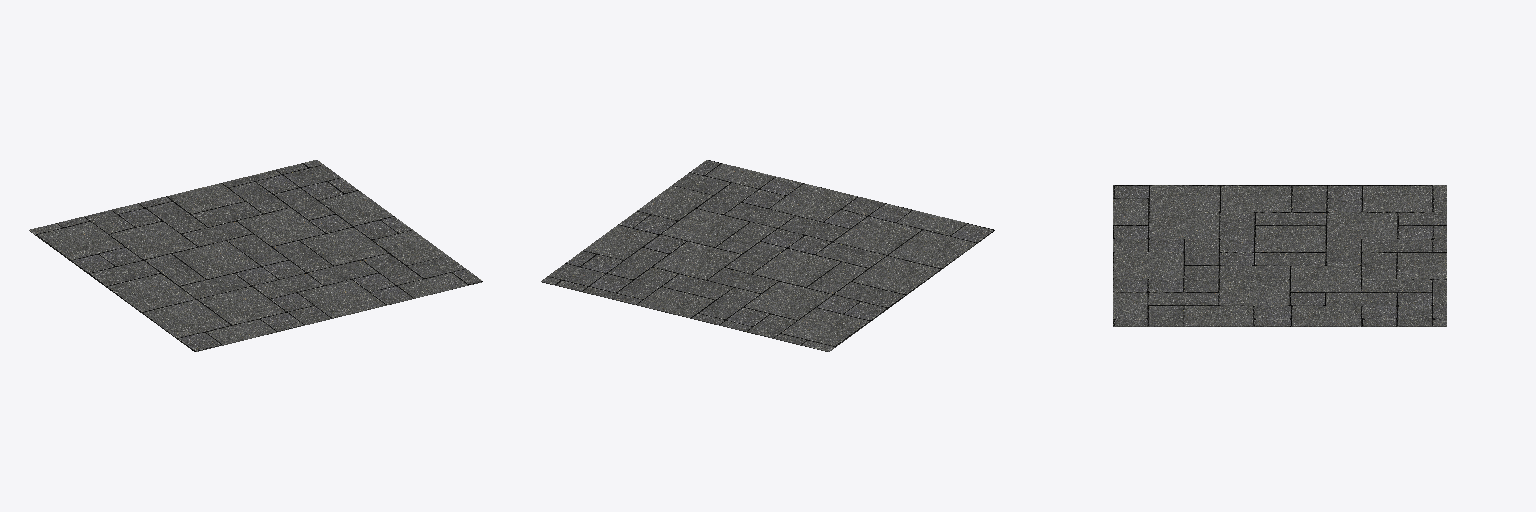
3 views of the same model, side by side, from view 1: azimuth 30°, elevation 25°; view 2: azimuth 150°, elevation 25°; view 3: azimuth 270°, elevation 25° (orthographic).
Visible parts, largest first — view 1: Cube_Cube_Material; view 2: Cube_Cube_Material; view 3: Cube_Cube_Material.
Boxes of the visible parts, box(x1,y1,x2,y2) form: Cube_Cube_Material: box(29, 160, 482, 351); Cube_Cube_Material: box(541, 160, 994, 351); Cube_Cube_Material: box(1113, 185, 1446, 326).
Size of the model in its own units: 10 by 0.02 by 10.
Materials: 1 (1 with a texture image).